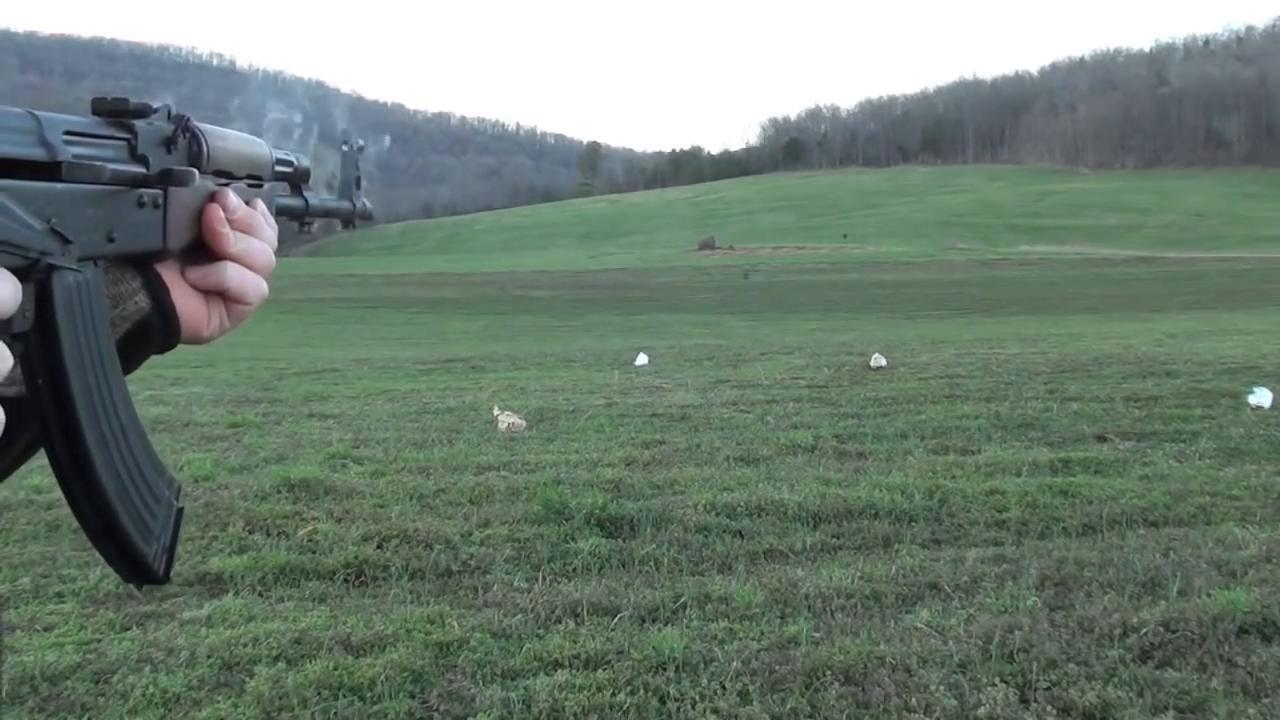AK47 Rifle: (1, 103, 377, 591)
